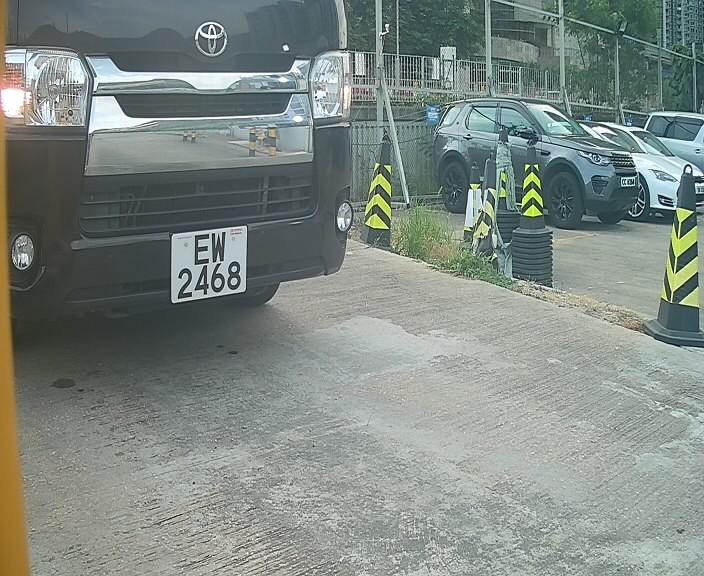License Plate: (161, 227, 258, 309)
